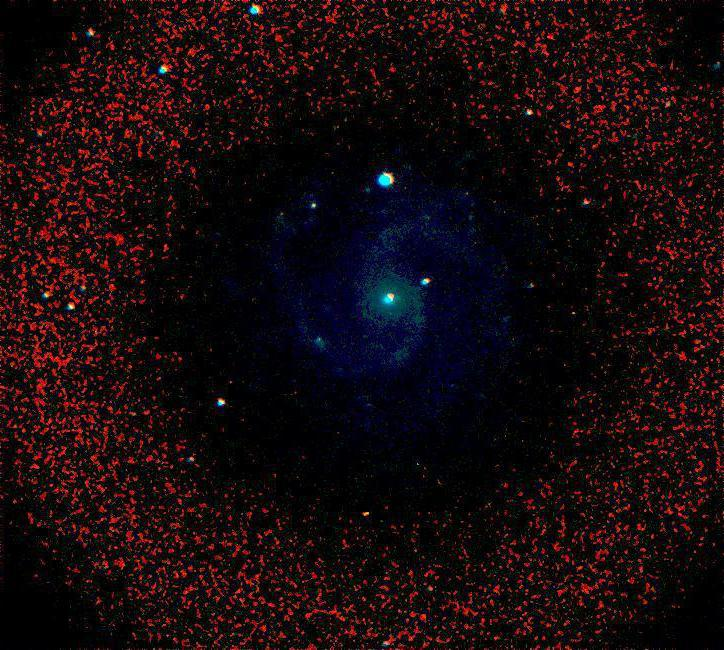star: (351, 496, 381, 526)
